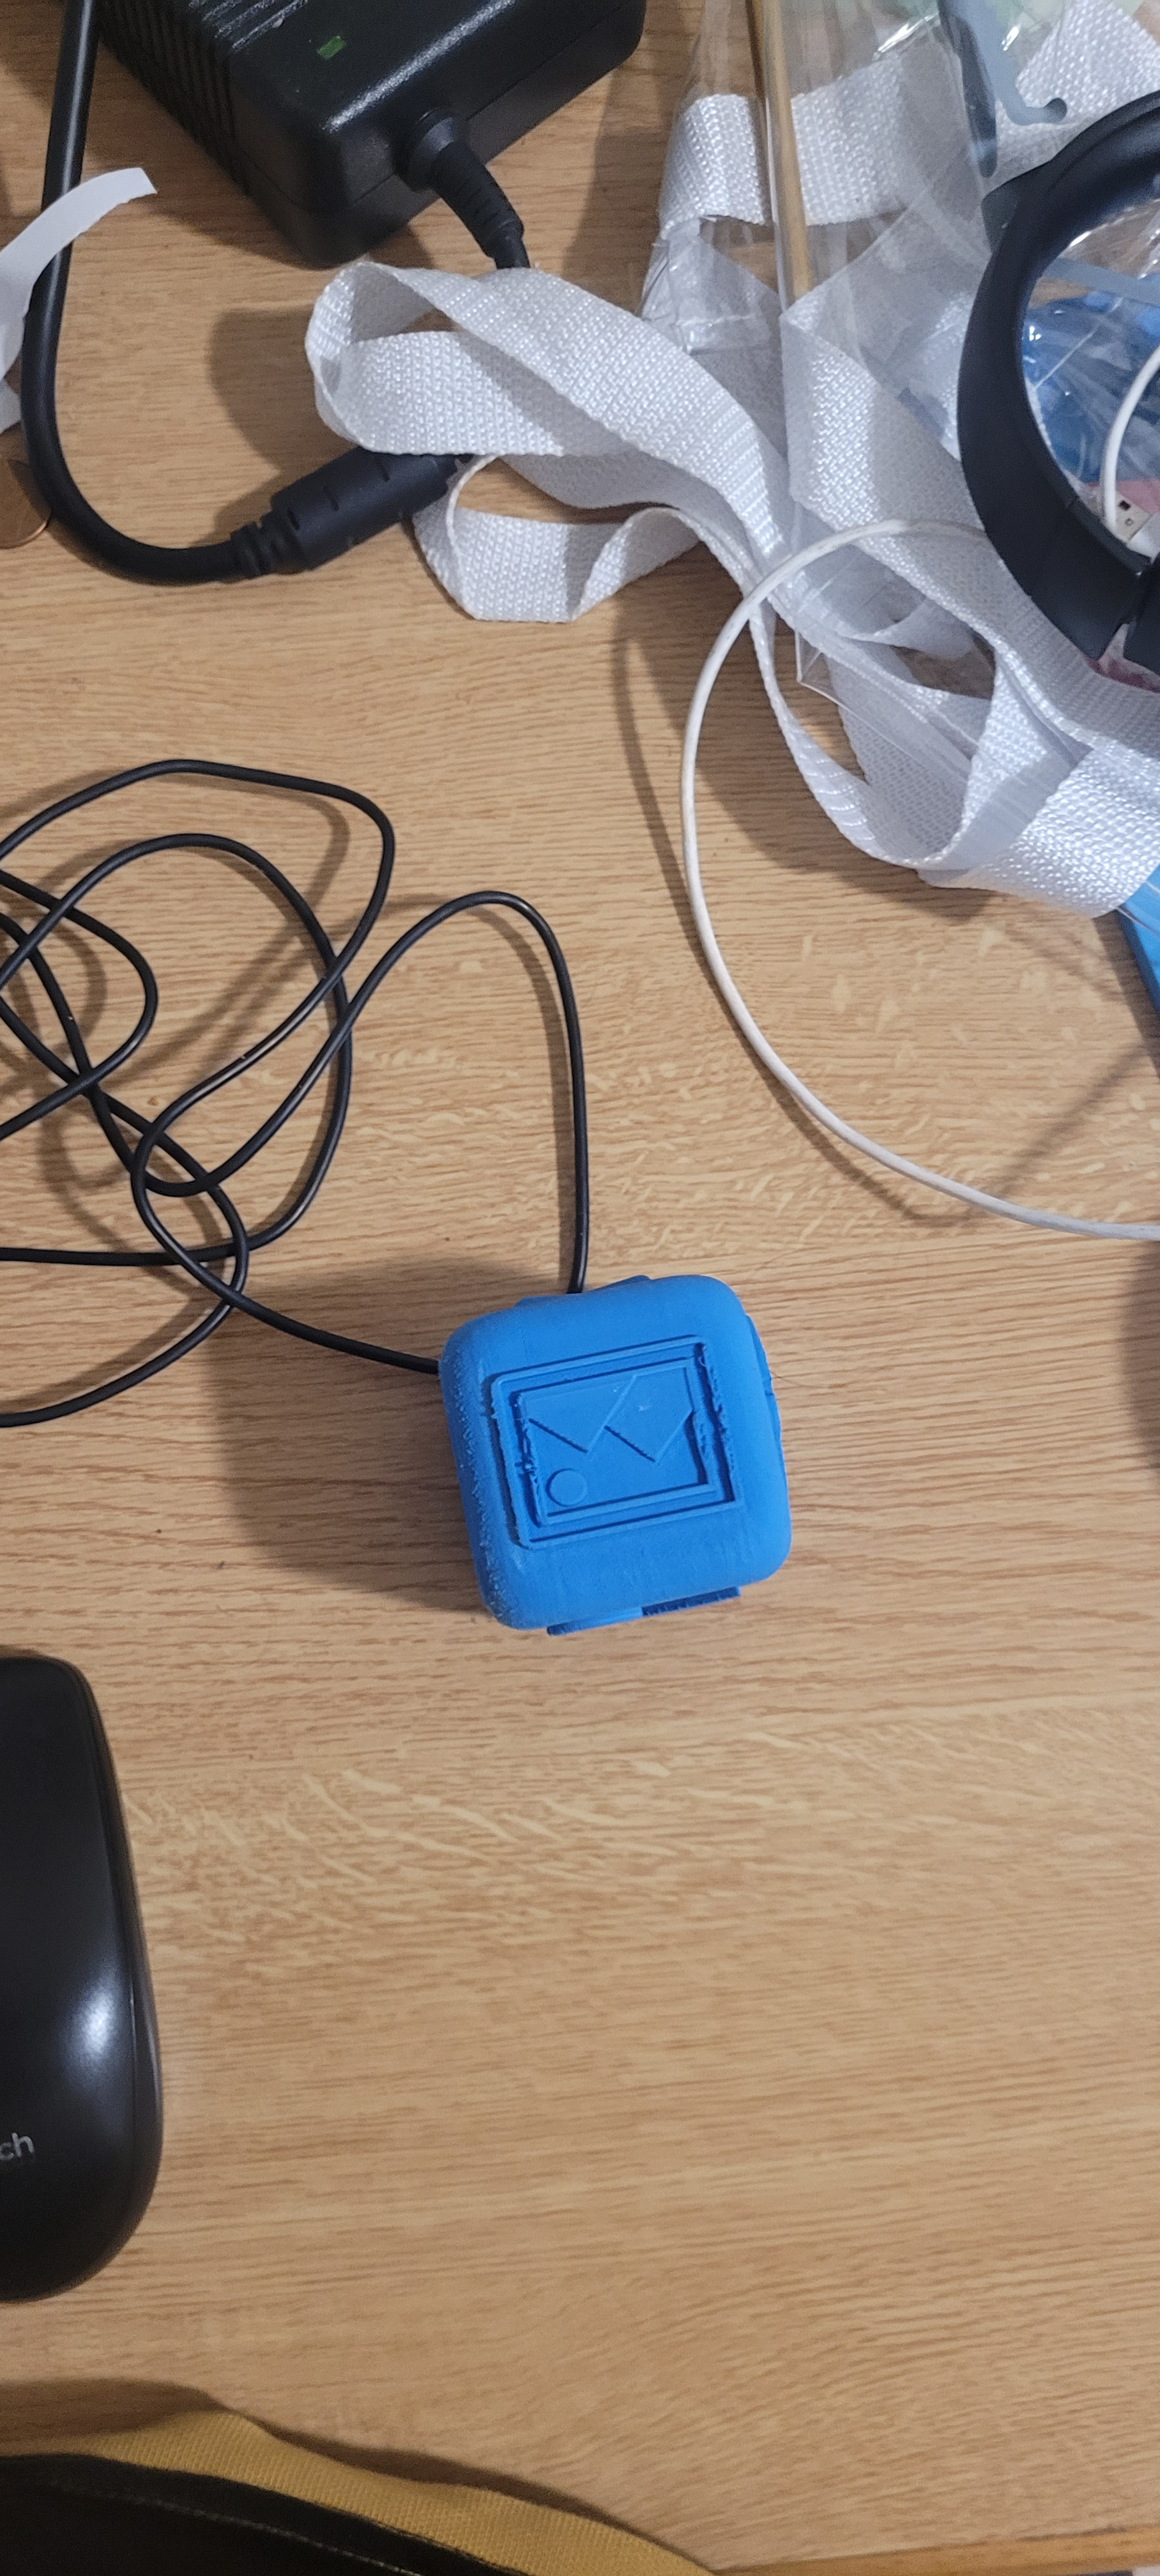Story: (467, 1318, 725, 1569)
